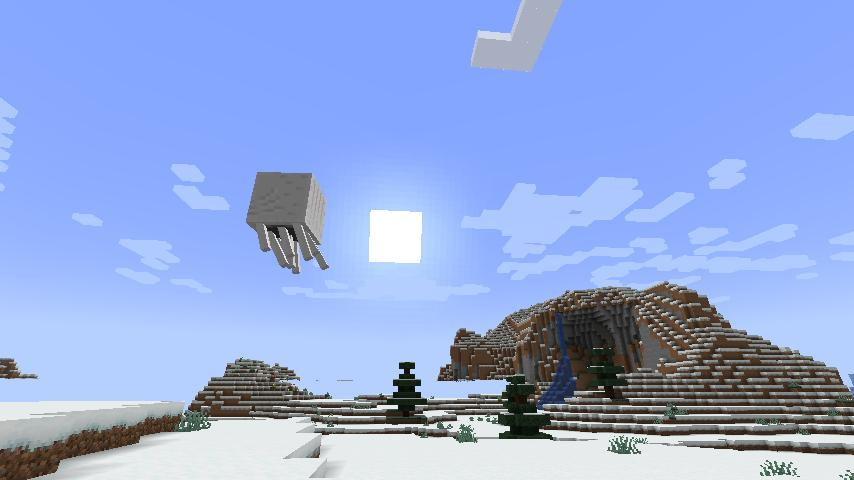ghast: (244, 171, 330, 277)
